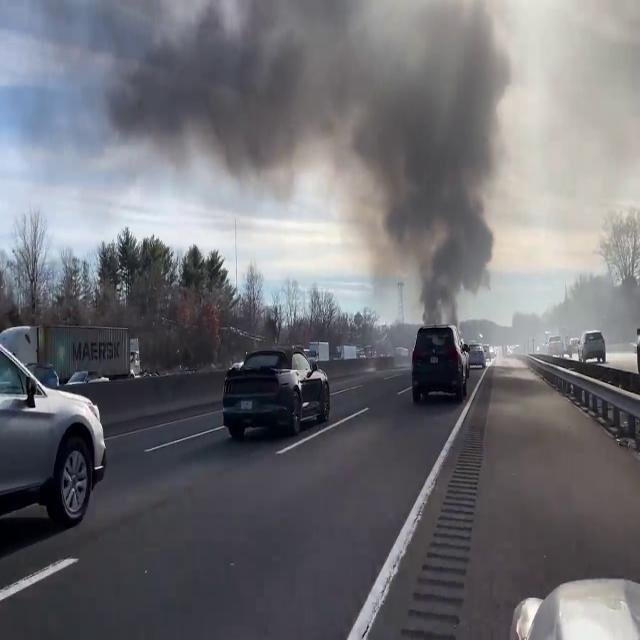Smoke: (105, 0, 523, 311)
